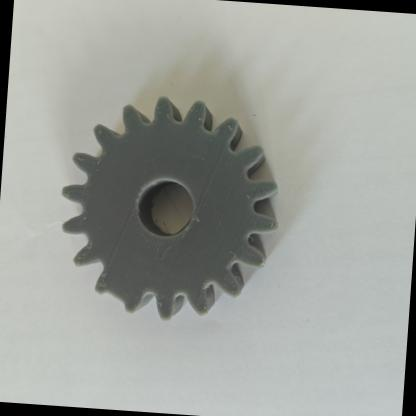defect: (83, 255, 155, 323)
gear: (40, 80, 292, 350)
